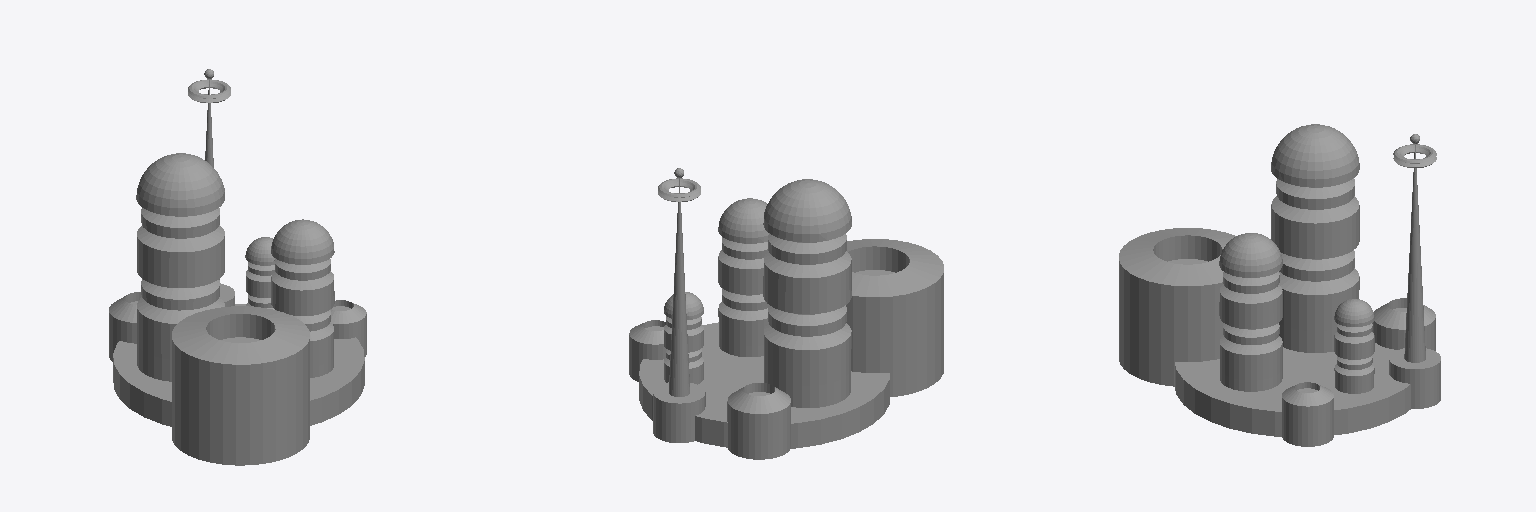
Rendered from city.obj.
The picture shows the model from 3 angles: view 1: azimuth 30°, elevation 25°; view 2: azimuth 150°, elevation 25°; view 3: azimuth 270°, elevation 25°; orthographic projection.
Parts seen in each view (by area): view 1: Cube.001; view 2: Cube.001; view 3: Cube.001.
Boxes of the visible parts, <box> form: Cube.001: <box>109,69,366,465</box>; Cube.001: <box>629,168,943,459</box>; Cube.001: <box>1119,124,1440,446</box>.
Size of the model in its own units: 6.26 by 6.51 by 7.22.